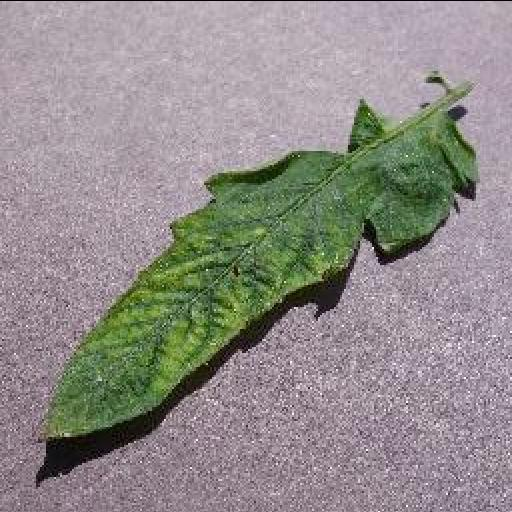disease_tomato: (26, 100, 480, 446)
